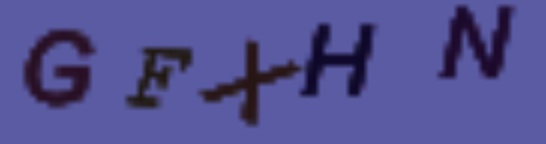F: (121, 45, 194, 111)
G: (17, 24, 96, 109)
H: (296, 18, 379, 100)
N: (433, 1, 518, 84)
X: (201, 39, 303, 130)
